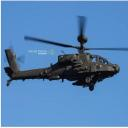helicopter: (1, 16, 128, 92)
